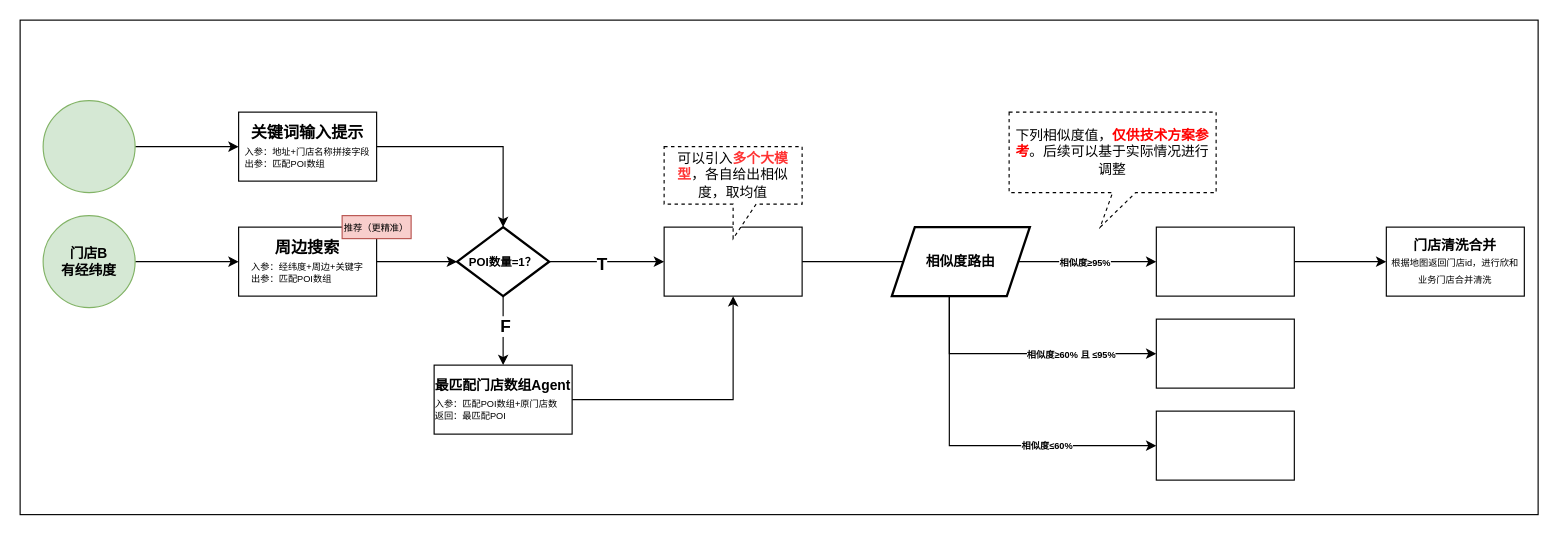
The diagram is 1558 pixels wide and 535 high, and some of its shapes have lost their labels. Each missing label, with the centre of its shape:
"写入审批表 需要主数据人员审核" belongs at [1224,353].
"写入异常数据表 需要人工手动匹配" belongs at [1224,445].
"写入门店表 更新门店数据" belongs at [1224,261].
"同门店相似度Agent 入参：匹配POI+原门店信息 出参：相似度" belongs at [732,261].
"门店A 无经纬度" belongs at [88,146].
